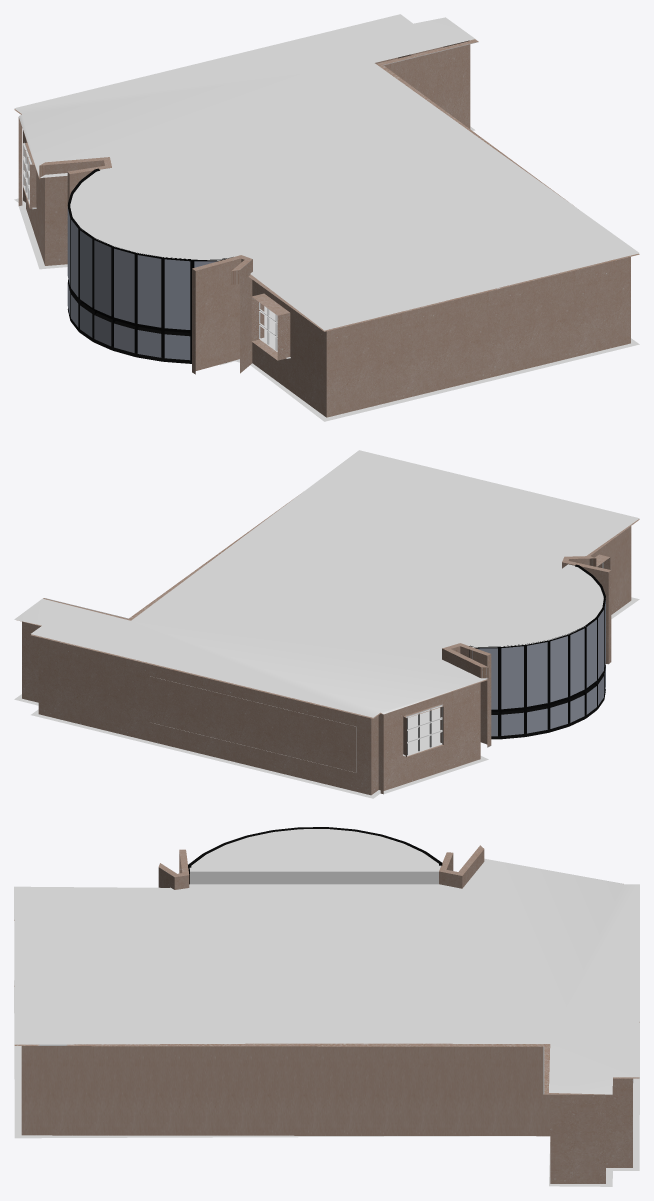
Rendered from Office1All.fbx.
3 renders of one model, top to bottom at view 1: azimuth 30°, elevation 25°; view 2: azimuth 150°, elevation 25°; view 3: azimuth 270°, elevation 25°, orthographic. The views are drawn at different scales.
Visible parts, largest first — view 1: Office1Roof, Office1NewWalls, RoundWindowGlass, RoundWindowMetal, Office1Floor; view 2: Office1Roof, Office1NewWalls, RoundWindowGlass, RoundWindowMetal, Office1Floor, Office1Windows2; view 3: Office1Roof, Office1NewWalls, Office1Floor, RoundWindowMetal.
Part boxes in pixels (box(x1,y1,x2,y2)): Office1Roof: box(14, 14, 639, 330); Office1NewWalls: box(14, 39, 639, 417); RoundWindowGlass: box(67, 207, 217, 360); RoundWindowMetal: box(67, 168, 226, 363); Office1Floor: box(14, 126, 639, 421); Office1Roof: box(14, 450, 639, 717); Office1NewWalls: box(17, 495, 639, 795); RoundWindowGlass: box(472, 600, 605, 736); RoundWindowMetal: box(469, 564, 605, 739); Office1Floor: box(14, 597, 639, 798); Office1Windows2: box(403, 704, 442, 756); Office1Roof: box(14, 829, 639, 1094); Office1NewWalls: box(14, 845, 639, 1183); Office1Floor: box(14, 980, 639, 1186); RoundWindowMetal: box(188, 827, 442, 884).
Size of the model in its own units: 21.16 by 4.19 by 22.15.
